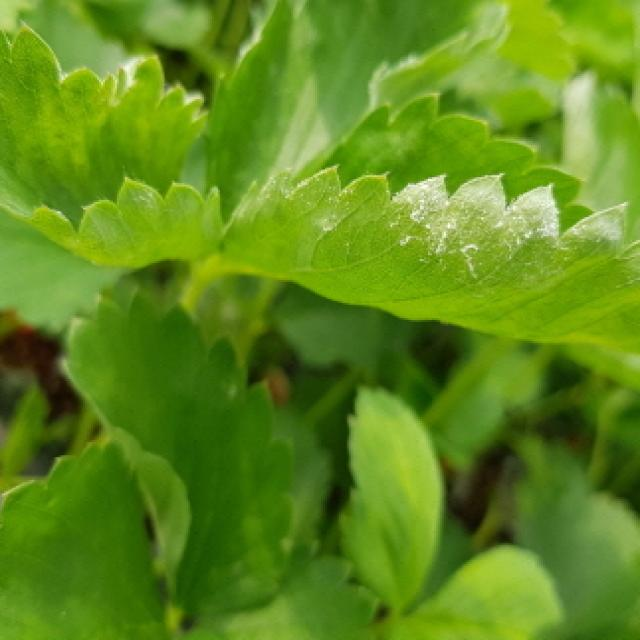Powdery Mildew Leaf: (219, 92, 640, 356), (0, 21, 222, 270)
